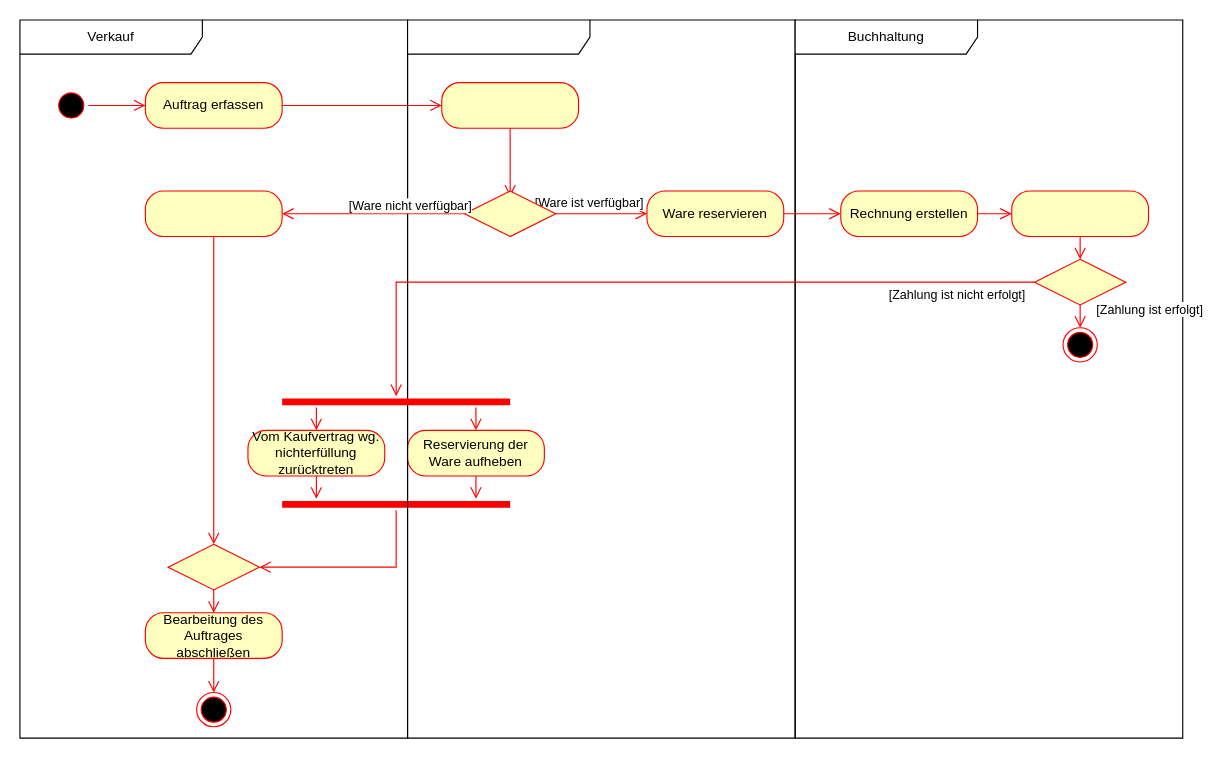
Some shapes in this 1222 by 758 pixel diagram are drawn without their labels. Here are the shapes that lost their labels. From the top down, the box of each, then its label:
(441, 82, 579, 128): Prüfen ob ware verfügbar ist
(144, 190, 282, 237): Vertrag wg. unmöglichkeit ablehnen
(1011, 190, 1149, 237): Zahlungseingang überprüfen
(406, 19, 795, 738): Versand
